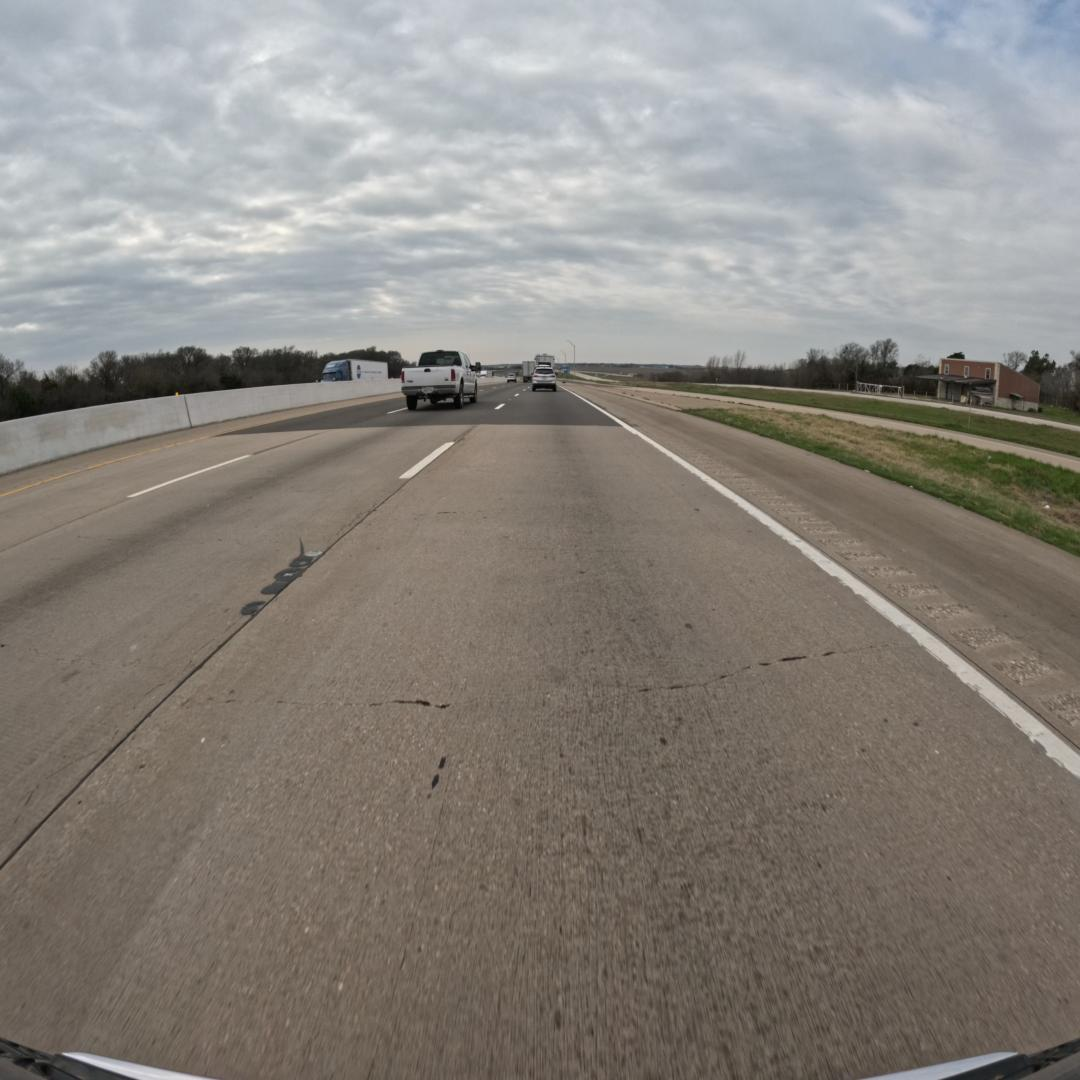lane0: (0, 425, 1080, 1077)
lane1: (0, 425, 469, 868)
